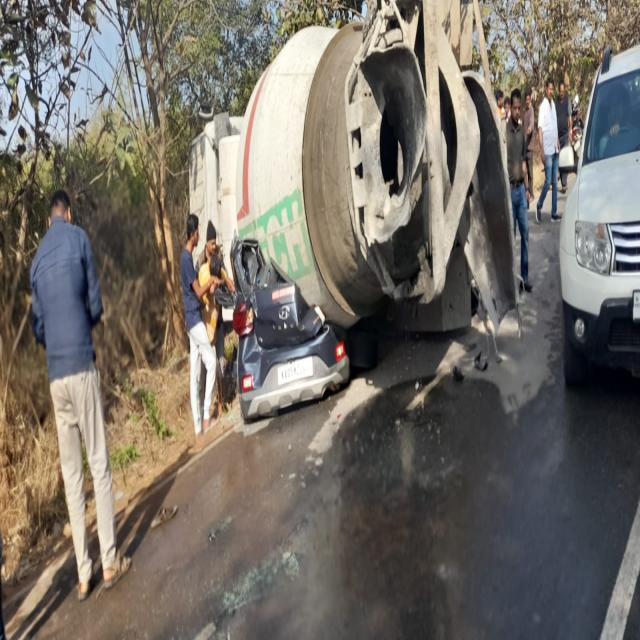accident: (189, 0, 519, 357), (220, 236, 350, 422)
car: (559, 44, 640, 386)
